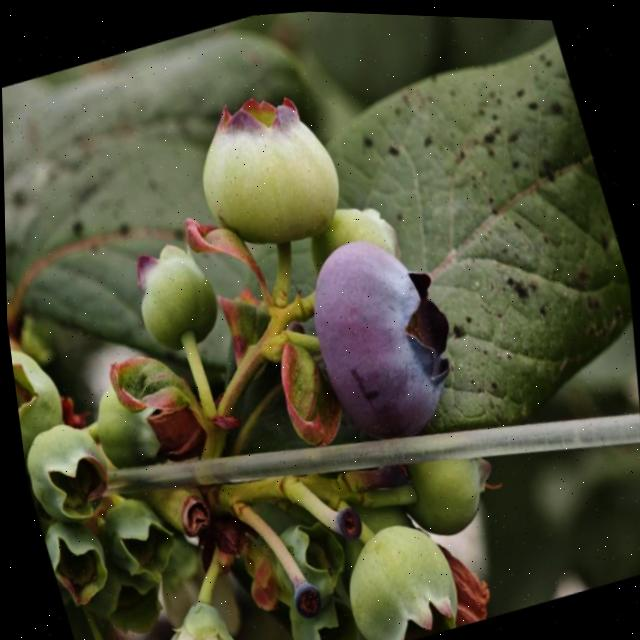Semi-RipeBlueBerry: (281, 212, 485, 460)
UnripeBlueBerry: (168, 66, 364, 267), (323, 499, 478, 640)
